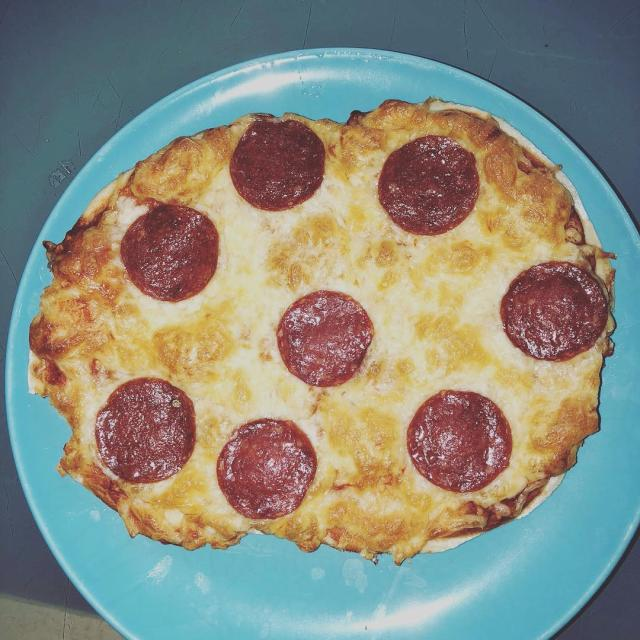pepperoni: (370, 126, 489, 242), (86, 372, 198, 486), (114, 196, 226, 308), (411, 381, 515, 496), (217, 412, 321, 523), (275, 286, 377, 392), (501, 259, 608, 359), (233, 113, 332, 215)
pizza: (24, 95, 615, 568)
